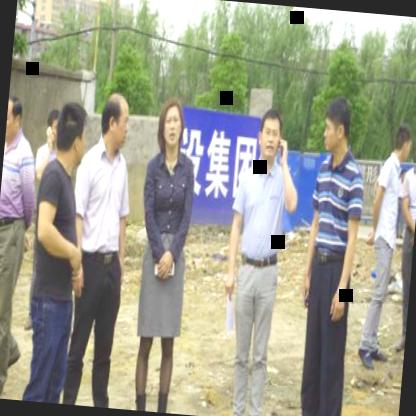head: (318, 92, 356, 160), (52, 100, 90, 164), (98, 89, 134, 155), (154, 93, 190, 154), (254, 104, 286, 166), (392, 120, 416, 163), (5, 95, 25, 145), (43, 106, 61, 146)
